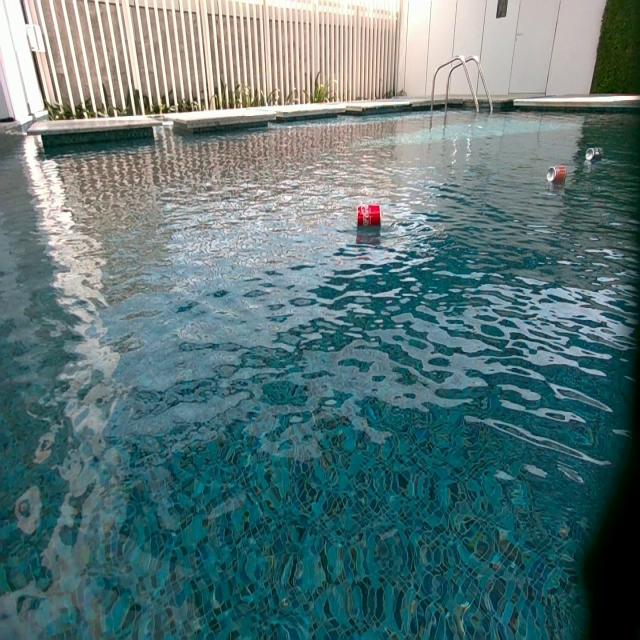Cans: (356, 205, 379, 226), (546, 165, 566, 185), (585, 146, 604, 162)
